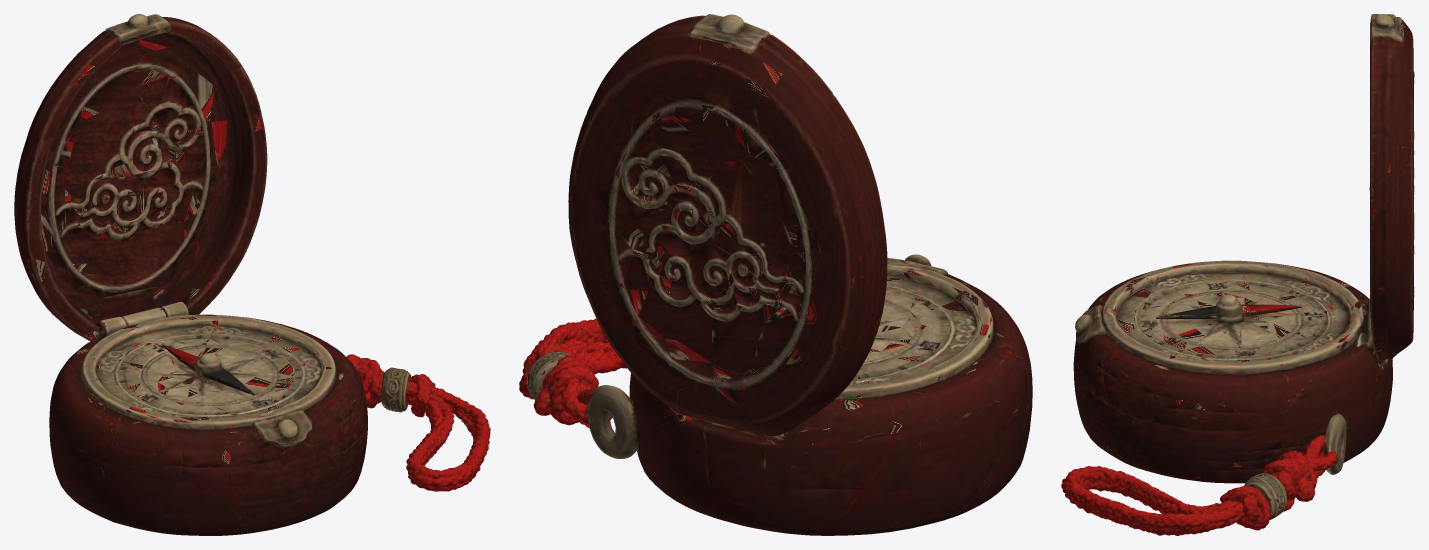
Rendered from scout.glb.
The picture shows the model from 3 angles, left to right: view 1: azimuth 30°, elevation 25°; view 2: azimuth 150°, elevation 25°; view 3: azimuth 270°, elevation 25°; orthographic projection. The views are drawn at different scales.
Bounding box in the file's own units: 1.9 × 1.9 × 1.49.
Materials: 1 (1 with a texture image).
